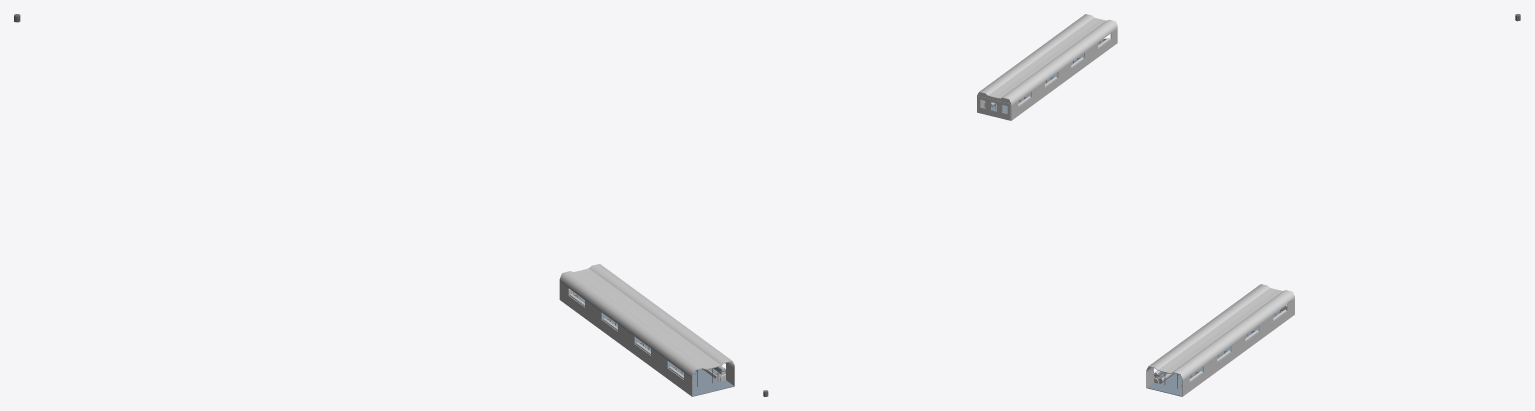
The model's file is METERO.fbx.
3 views of the same model, side by side, from view 1: azimuth 30°, elevation 25°; view 2: azimuth 150°, elevation 25°; view 3: azimuth 330°, elevation 25° (orthographic). The views are drawn at different scales.
Parts seen in each view (by area): view 1: Base2; view 2: Base2; view 3: Base2.
Part boxes in pixels (left/top/right/bottom): Base2: left=559, top=264, right=734, bottom=396; Base2: left=977, top=14, right=1117, bottom=120; Base2: left=1146, top=284, right=1294, bottom=396.
Size of the model in its own units: 29.4 by 5 by 173.
